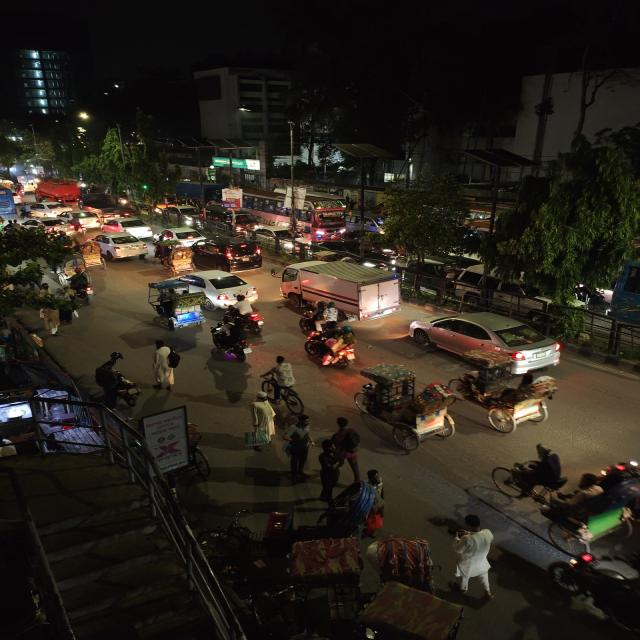bus: (236, 190, 348, 237), (0, 181, 17, 221)
car: (401, 307, 569, 373), (162, 268, 261, 306), (199, 238, 264, 268), (92, 232, 149, 262), (103, 216, 154, 238), (160, 227, 206, 246), (89, 203, 137, 220), (67, 210, 100, 231), (27, 202, 56, 219)
cng: (259, 227, 298, 251)
motorcycle: (303, 323, 362, 372), (92, 358, 140, 410), (210, 320, 252, 362), (226, 294, 266, 336), (67, 269, 98, 305)
pedestrian: (442, 510, 507, 598), (347, 467, 392, 539), (258, 353, 305, 415), (323, 415, 365, 478), (280, 419, 316, 477), (149, 338, 184, 394), (246, 394, 281, 448), (314, 438, 344, 494), (34, 302, 63, 336)
rickshaw: (490, 448, 640, 550), (352, 363, 460, 451), (451, 364, 564, 436), (145, 281, 210, 332), (166, 248, 200, 276), (77, 240, 106, 270)
truck: (276, 257, 404, 321), (34, 179, 80, 206), (0, 184, 18, 220)
